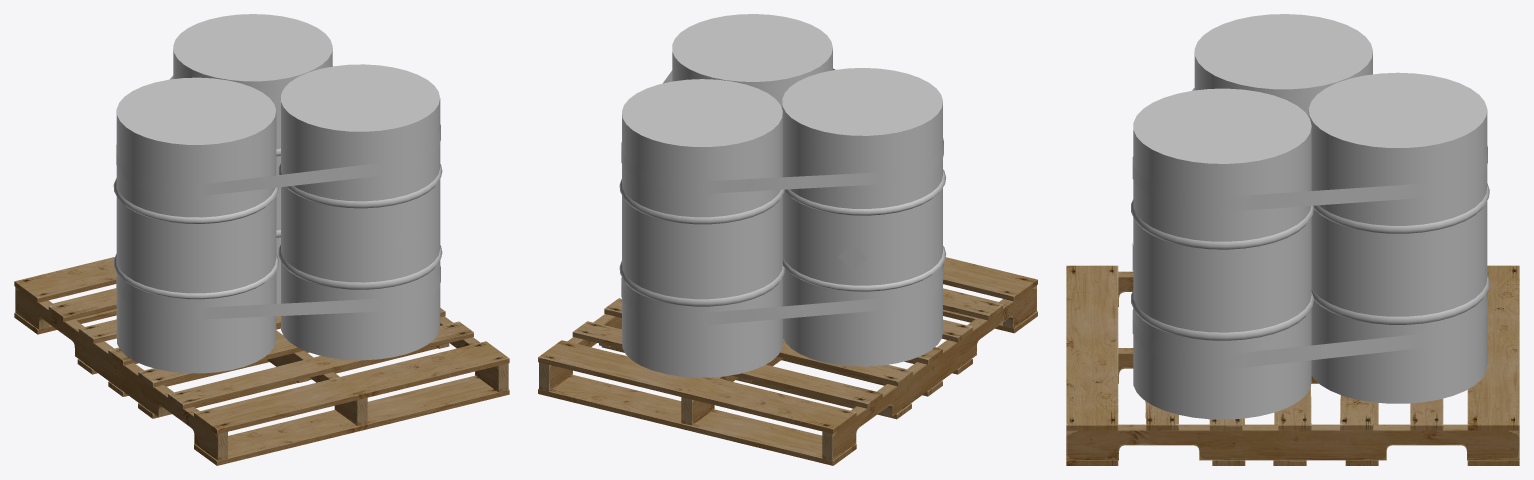
File: Warehouse_Pallet_Barrels.FBX
3 renders of one model, left to right at view 1: azimuth 30°, elevation 25°; view 2: azimuth 150°, elevation 25°; view 3: azimuth 270°, elevation 25°, orthographic. The views are drawn at different scales.
Visible parts, largest first — view 1: Warehouse_Pallet_Barrels; view 2: Warehouse_Pallet_Barrels; view 3: Warehouse_Pallet_Barrels.
Part boxes in pixels (bbox=[...]): Warehouse_Pallet_Barrels: bbox=[14, 14, 509, 465]; Warehouse_Pallet_Barrels: bbox=[538, 14, 1037, 465]; Warehouse_Pallet_Barrels: bbox=[1066, 14, 1519, 465].
Bounding box in the file's own units: 40 × 34.62 × 48.
